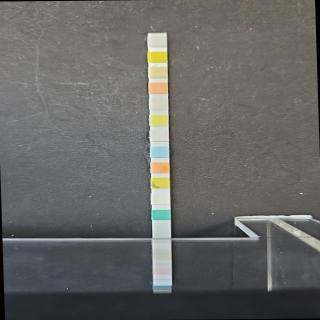mark: (148, 66, 168, 80), (148, 98, 168, 111), (149, 114, 169, 127), (151, 192, 171, 205), (147, 36, 167, 48), (149, 130, 169, 142), (150, 162, 169, 174), (151, 177, 170, 189), (148, 83, 168, 94), (151, 209, 171, 220), (151, 146, 169, 158), (148, 52, 167, 63)
